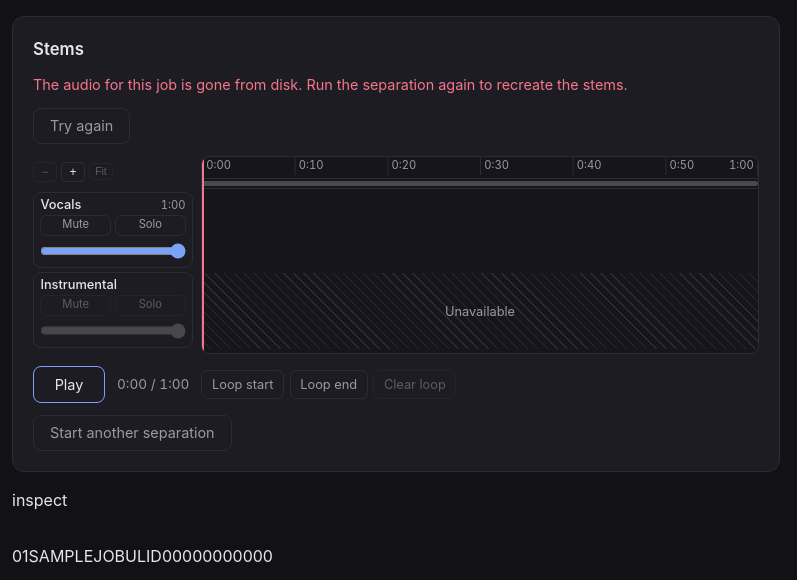
Test case: StemPlayer stem-audio retry › recovers the stem over the real engine, keeping the mix intact
Expected: the button "Play" is enabled, x1=33 y1=366 x2=105 y2=403
Expected: the message is shown, x1=33 y1=76 x2=628 y2=93
Click the button "Try again" at (82, 126), box x1=33 y1=108 x2=130 y2=144
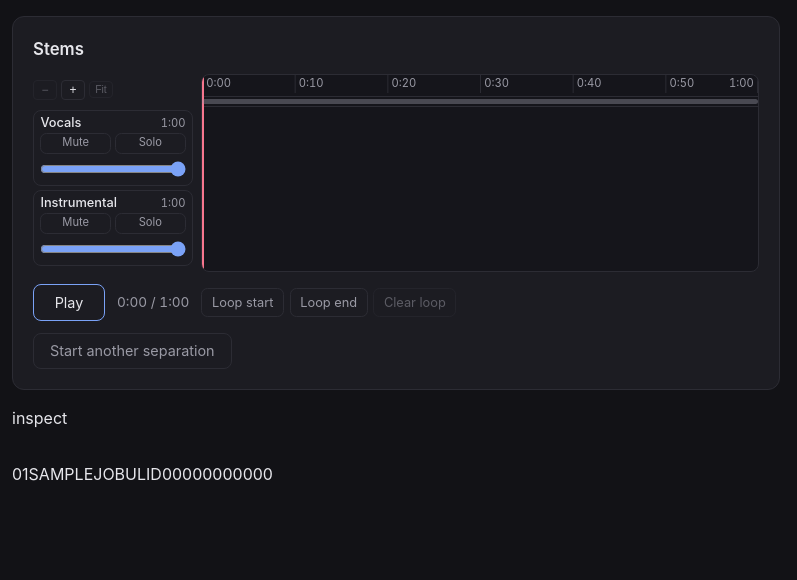
Now the button with aria-label "Mute instrumental" is enabled, box x1=40 y1=213 x2=111 y2=234
Now the message is gone
Now the button "Try again" is gone
